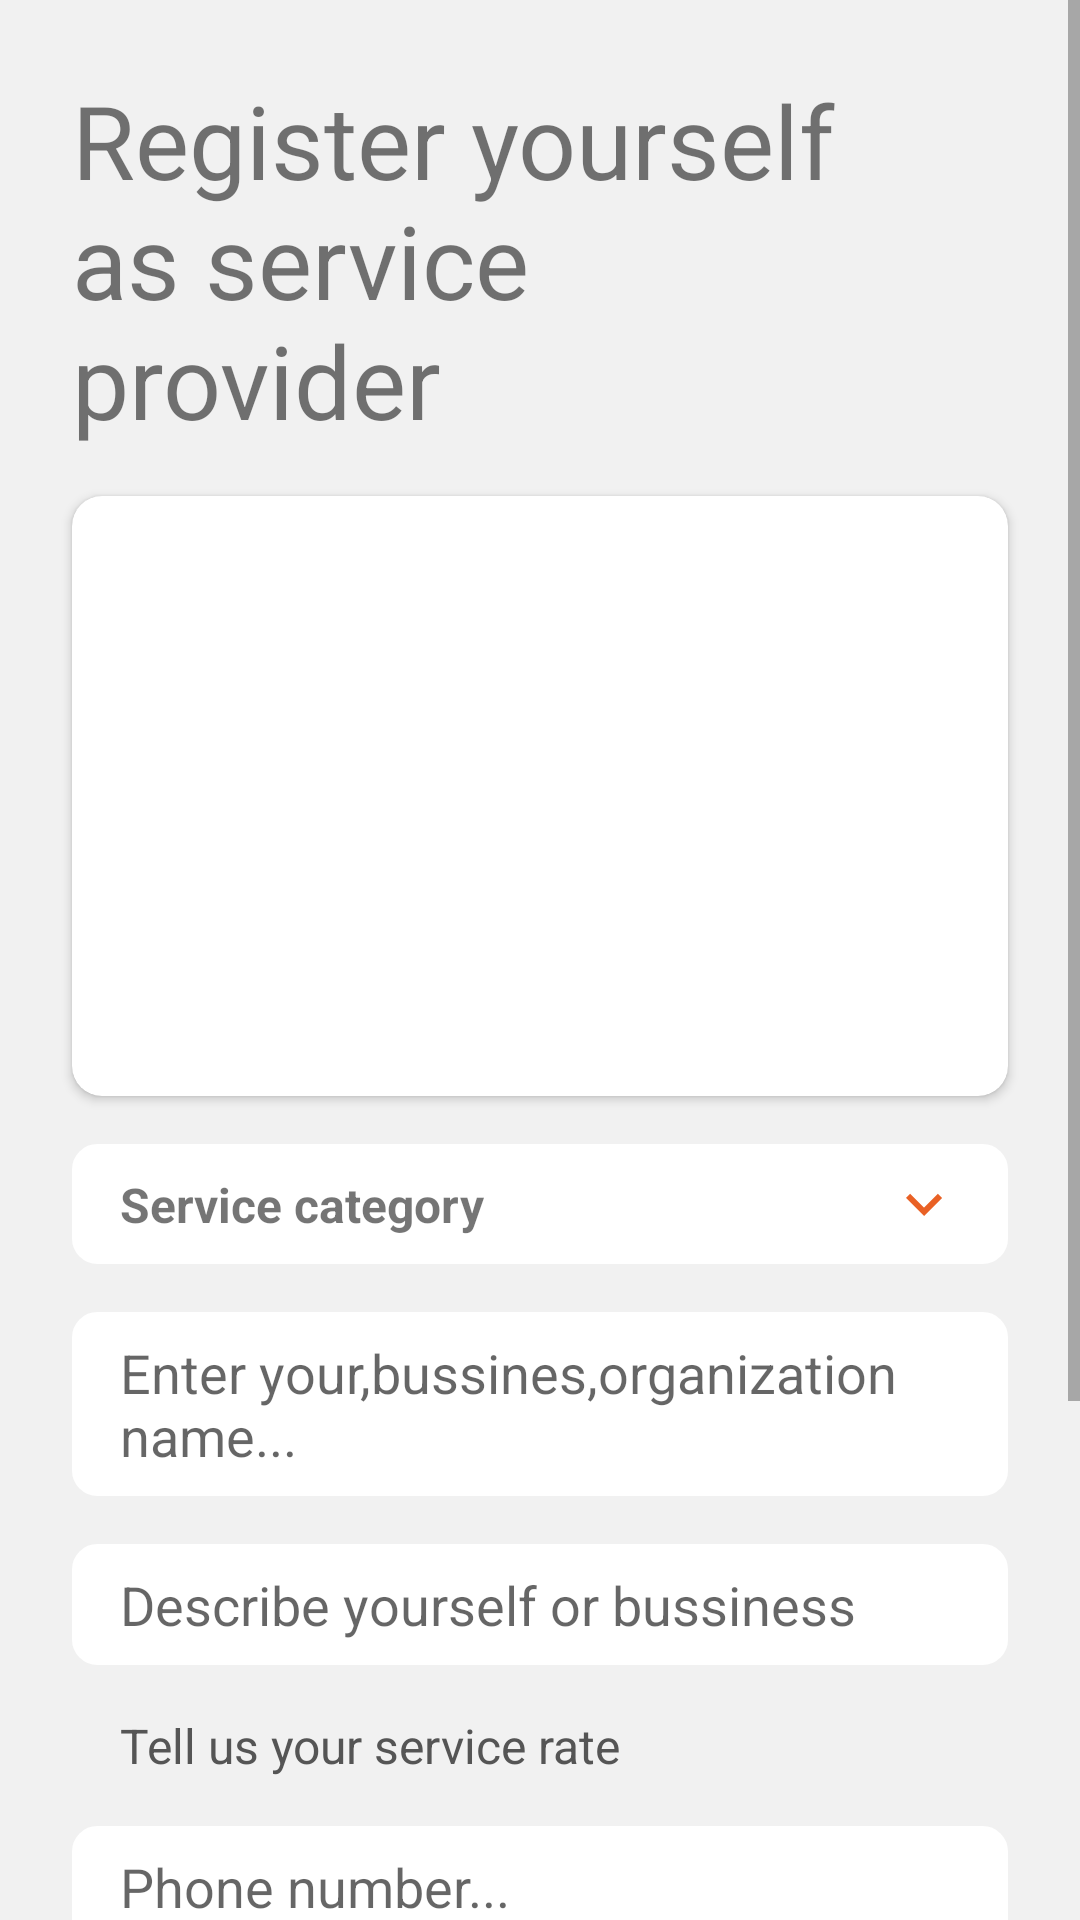

Screen size 1080px x 1920px. Icon name, then its center in pixels as point (x, y):
keyboard arrow down: point (924, 1205)
